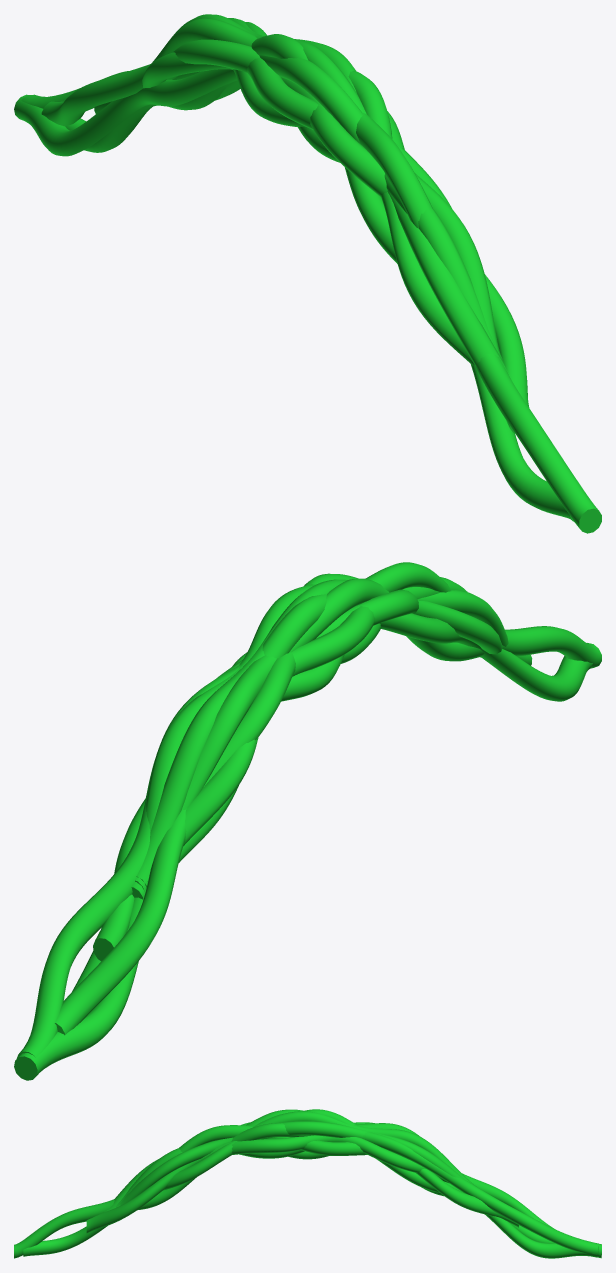
File: leaf3.fbx
3 views of the same model, one above another, from view 1: azimuth 30°, elevation 25°; view 2: azimuth 150°, elevation 25°; view 3: azimuth 270°, elevation 25° (orthographic). The views are drawn at different scales.
Parts seen in each view (by area): view 1: NURBSパス.001; view 2: NURBSパス.001; view 3: NURBSパス.001.
Boxes of the visible parts, x1,y1,x2,y2 form: NURBSパス.001: [14, 14, 601, 533]; NURBSパス.001: [14, 562, 601, 1080]; NURBSパス.001: [14, 1109, 601, 1258].
Size of the model in its own units: 1722 by 5381 by 19629.
